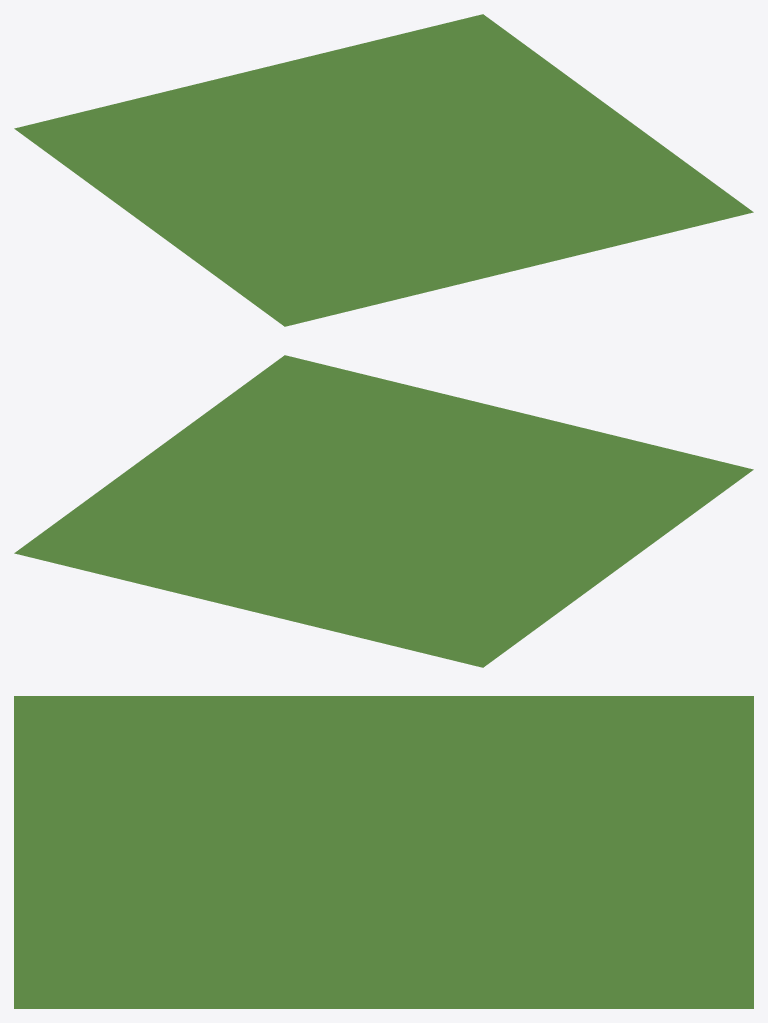
The model's file is terrain_10_3_1.glb.
3 renders of one model, top to bottom at view 1: azimuth 30°, elevation 25°; view 2: azimuth 150°, elevation 25°; view 3: azimuth 270°, elevation 25°, orthographic. The views are drawn at different scales.
Parts seen in each view (by area): view 1: m; view 2: m; view 3: m.
Boxes of the visible parts, x1,y1,x2,y2 form: m: (14,14,753,326); m: (14,355,753,667); m: (14,696,753,1008).
Size of the model in its own units: 2 by 0 by 2.
